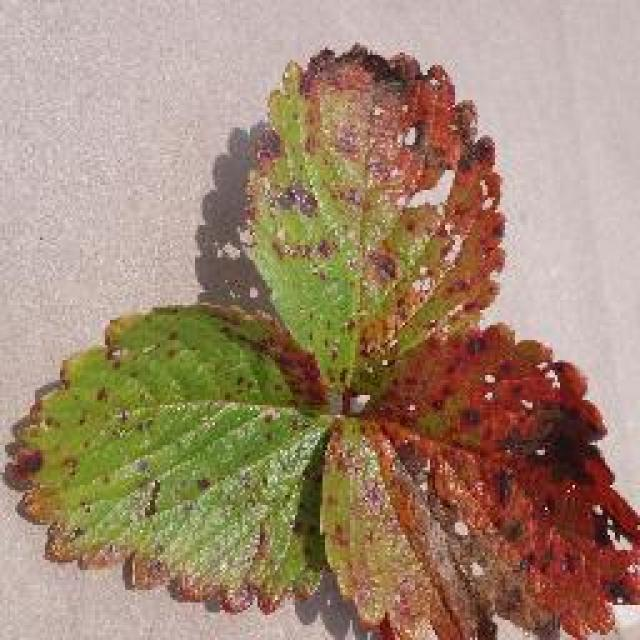Strawberry leaf scorch: (267, 120, 575, 620)
